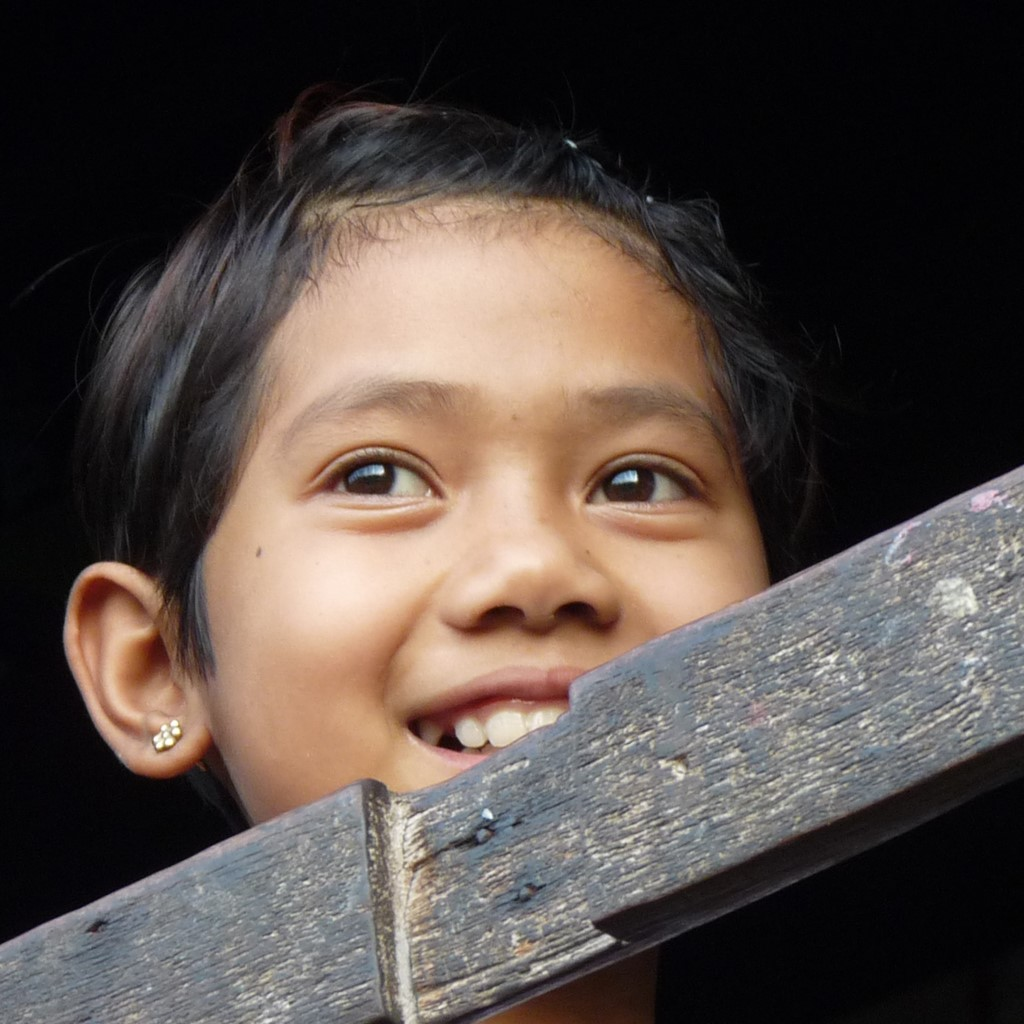sin_mascara: (94, 161, 774, 828)
